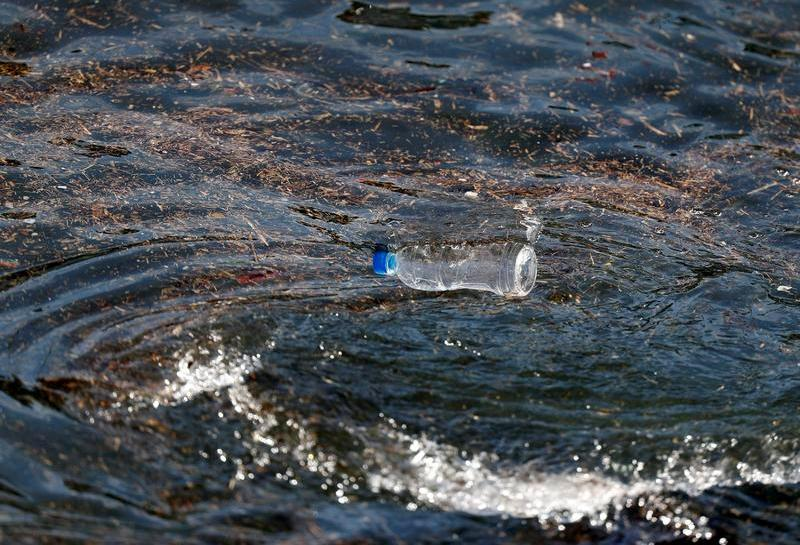Plastic: (358, 219, 555, 313)
